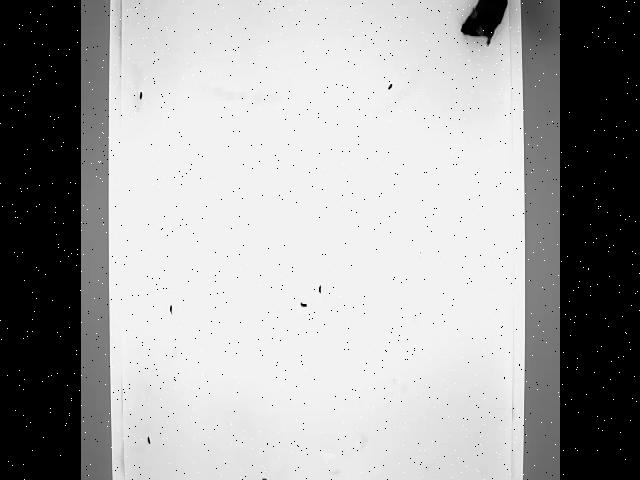Tikus: (424, 0, 509, 47)
